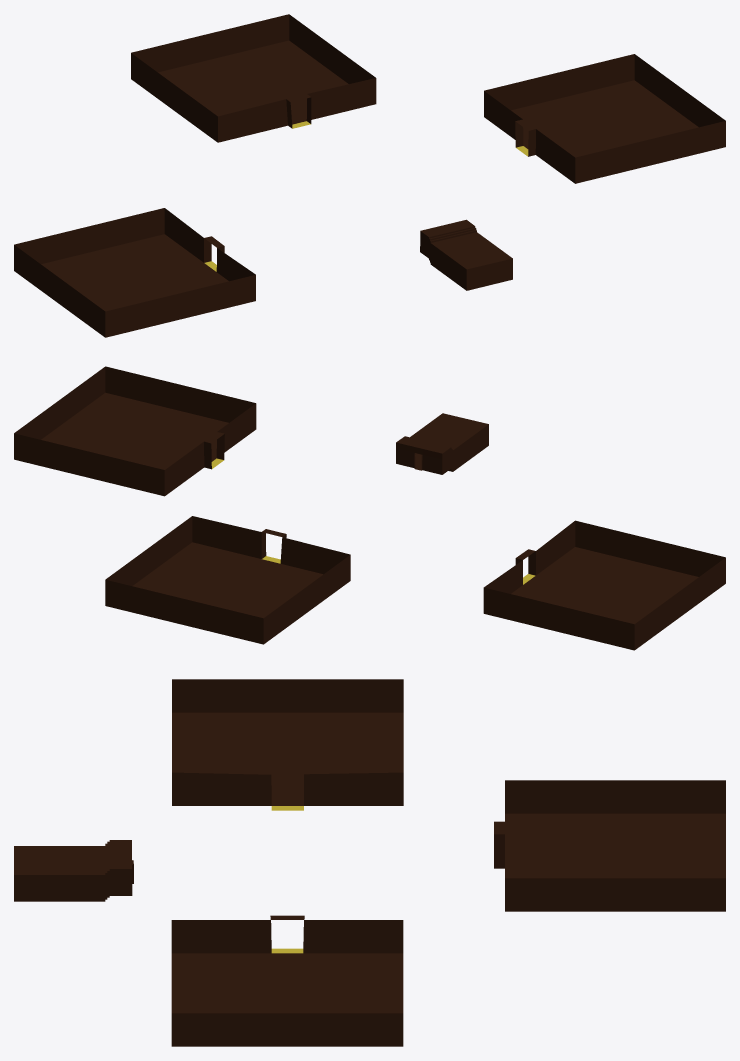
Rendered from Mapwithareasproto.FBX.
3 views of the same model, one above another, from view 1: azimuth 30°, elevation 25°; view 2: azimuth 150°, elevation 25°; view 3: azimuth 270°, elevation 25° (orthographic). The views are drawn at different scales.
Visible parts, largest first — view 1: AreaF001, AreaF003, AreaF002, StartArea; view 2: AreaF003, AreaF002, AreaF001, StartArea; view 3: AreaF001, AreaF002, AreaF003, StartArea.
Boxes of the visible parts, left/top/right/bottom form: AreaF001: left=131, top=14, right=376, bottom=142; AreaF003: left=484, top=54, right=725, bottom=183; AreaF002: left=14, top=208, right=255, bottom=337; StartArea: left=420, top=219, right=512, bottom=290; AreaF003: left=14, top=366, right=256, bottom=496; AreaF002: left=483, top=520, right=725, bottom=650; AreaF001: left=105, top=516, right=350, bottom=644; StartArea: left=396, top=413, right=488, bottom=474; AreaF001: left=494, top=780, right=725, bottom=911; AreaF002: left=172, top=679, right=403, bottom=810; AreaF003: left=171, top=915, right=403, bottom=1046; StartArea: left=14, top=840, right=133, bottom=901.
Bounding box in the file's own units: 92.22 × 9.44 × 72.23.
